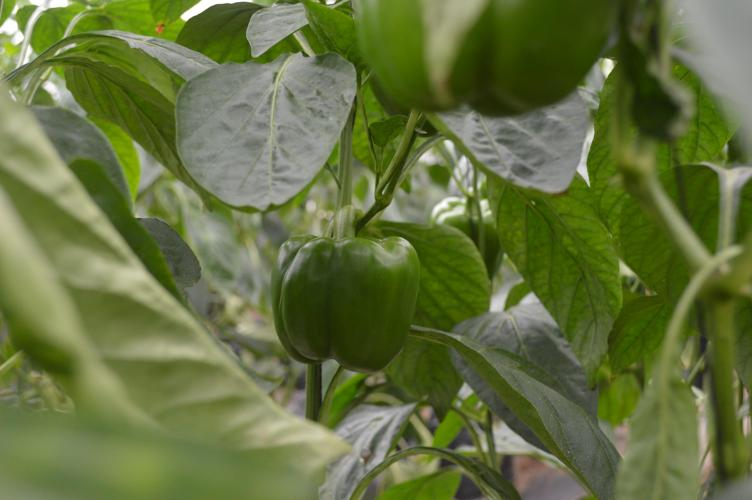BellPepper: (269, 236, 420, 376)
